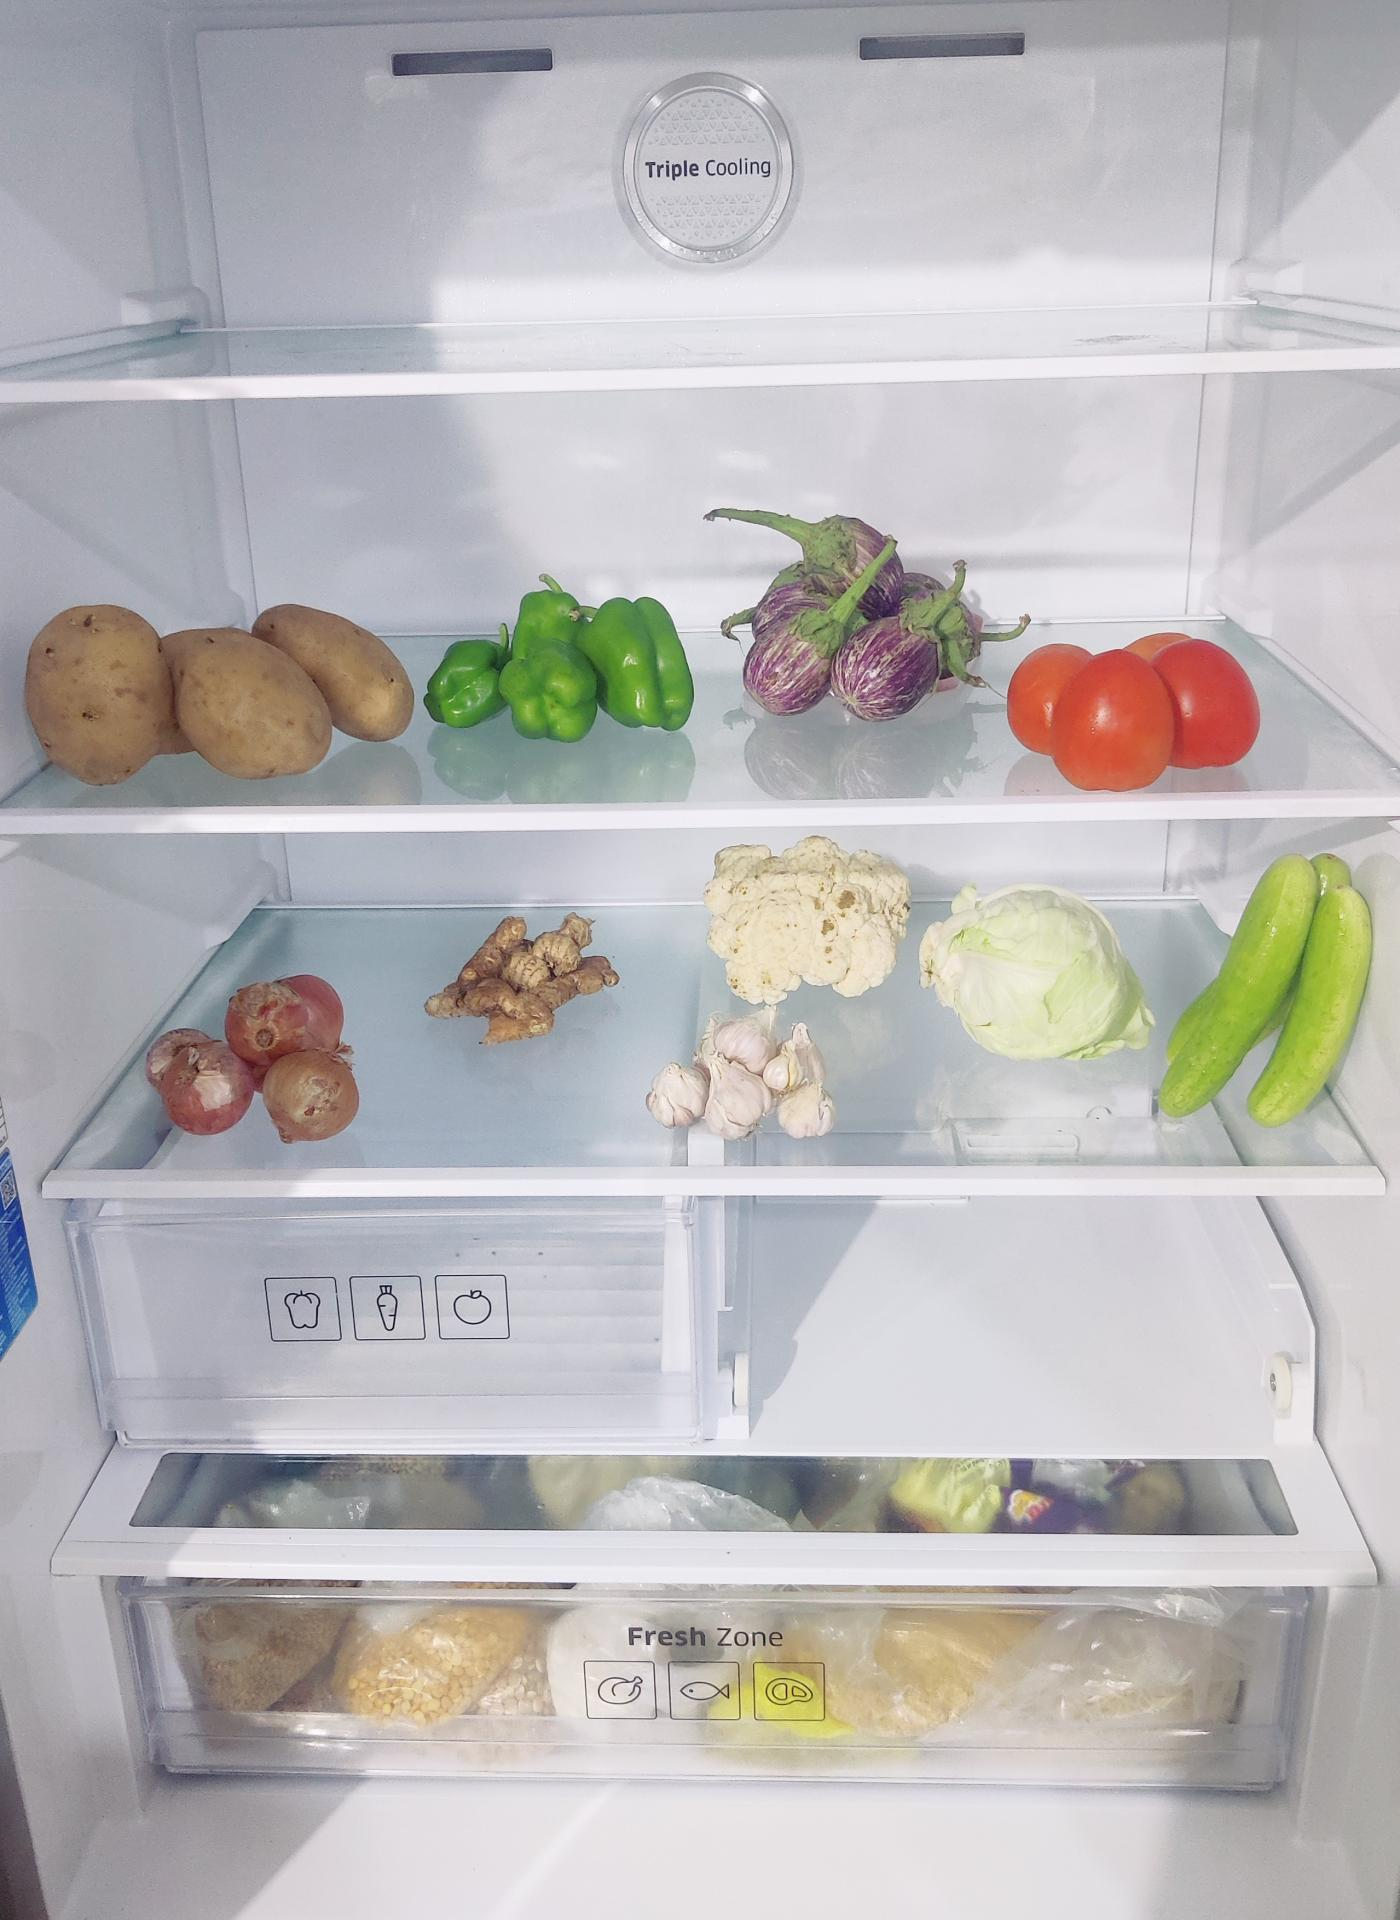brinjal: (725, 496, 974, 719)
cabbage: (924, 880, 1157, 1061)
capsicum: (434, 583, 702, 735)
cauliflower: (707, 842, 912, 1009)
cucumber: (1155, 877, 1372, 1142)
garlic: (656, 1011, 844, 1140)
ginger: (428, 909, 623, 1038)
onion: (143, 959, 349, 1149)
potato: (24, 593, 416, 775)
tomato: (1003, 626, 1260, 787)
